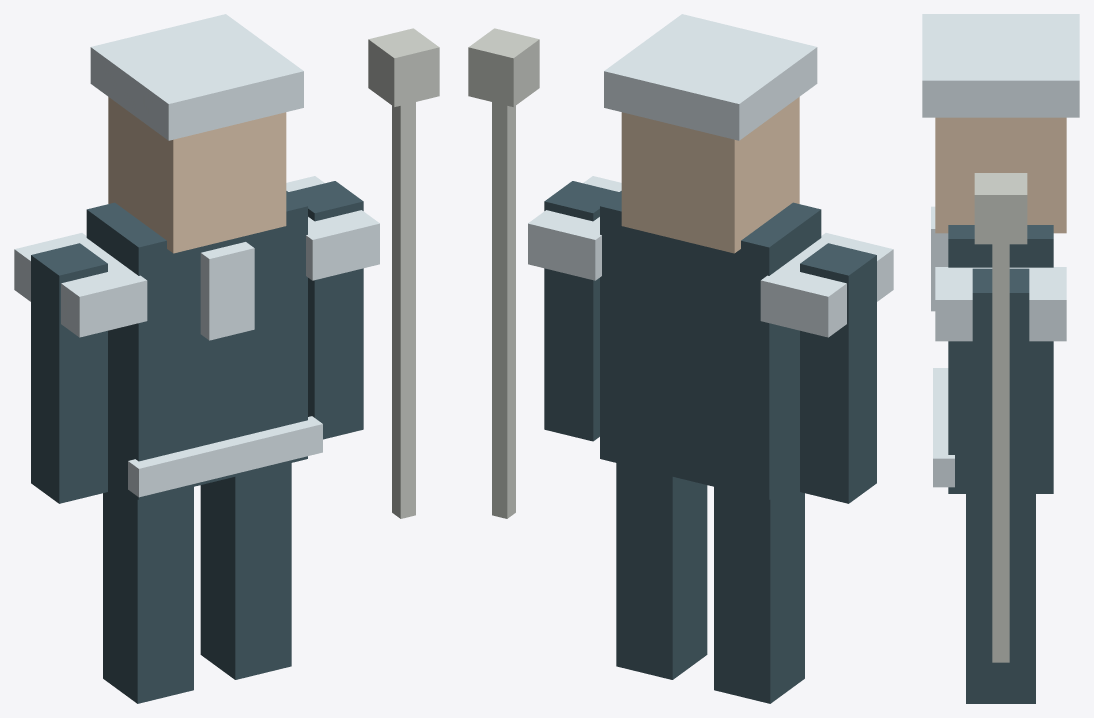
The model's file is 05_vale_gravesong_watcher_of_reset.glb.
The picture shows the model from 3 angles, left to right: view 1: azimuth 30°, elevation 25°; view 2: azimuth 150°, elevation 25°; view 3: azimuth 270°, elevation 25°; orthographic projection.
Parts seen in each view (by area): view 1: Vale Gravesong, Watcher of Reset; view 2: Vale Gravesong, Watcher of Reset; view 3: Vale Gravesong, Watcher of Reset.
Part boxes in pixels (x1,y1,x2,y2): Vale Gravesong, Watcher of Reset: [14, 14, 439, 703]; Vale Gravesong, Watcher of Reset: [468, 14, 893, 703]; Vale Gravesong, Watcher of Reset: [922, 14, 1079, 703].
Bounding box in the file's own units: 1.08 × 1.66 × 0.3834.
